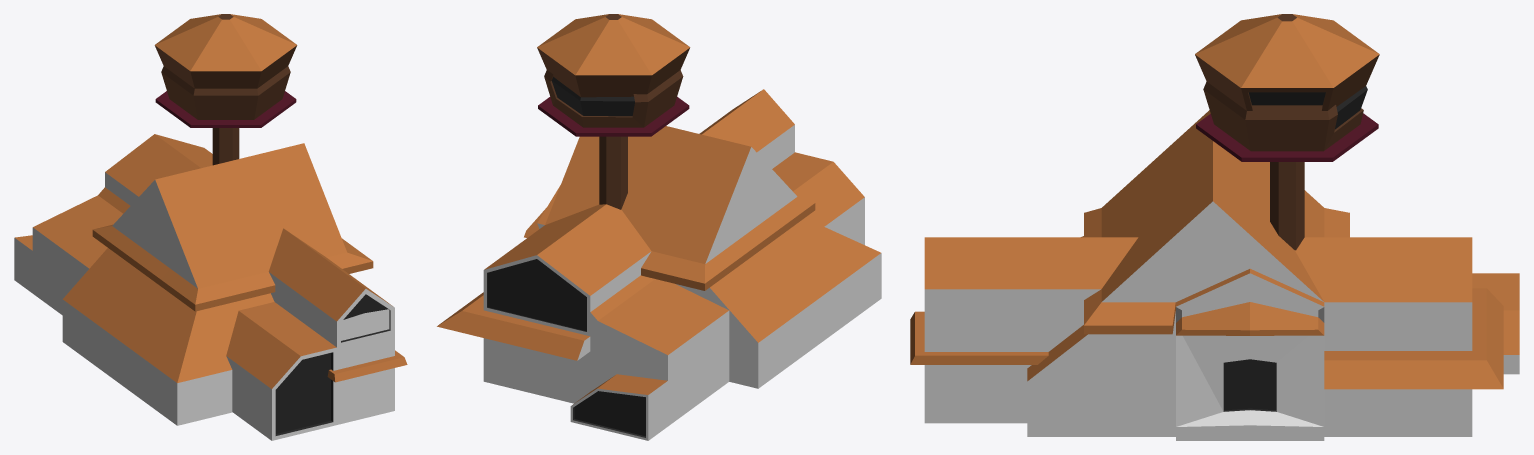
The model's file is House Module.fbx.
3 renders of one model, left to right at view 1: azimuth 30°, elevation 25°; view 2: azimuth 150°, elevation 25°; view 3: azimuth 270°, elevation 25°, orthographic. The views are drawn at different scales.
Parts seen in each view (by area): view 1: Base Extension Slot Type B No.1, Base Extension Slot Type E No.2, Base Extension Slot Type A No.2, Base Extension Slot Type A No.1, Base Extension Slot Type E No.1, Post House No.1, Base Default House Slot Type D No.2, Post House No.2, Base Default Slot Type C No.1, Base Default House Slot Type D No.1, Base Extension Slot Type B No.2, Post; view 2: Base Default Slot Type C No.1, Base Extension Slot Type B No.1, Base Extension Slot Type A No.1, Base Default House Slot Type D No.2, Post House No.1, Base Extension Slot Type A No.2, Base Default House Slot Type D No.1, Base Default Slot Type C No.2, Base Extension Slot Type E No.2, Post House No.2, Base Extension Slot Type E No.1, Post; view 3: Base Extension Slot Type E No.1, Base Extension Slot Type A No.2, Base Default Slot Type C No.1, Post House No.1, Base Default House No.1, Base Default Slot Type C No.2, Base Extension Slot Type B No.1, Base Default House, Post House No.2, Base Extension Slot Type A No.1, Post, Base Default House Slot Type D No.2 (+1 smaller).
Boxes of the visible parts, box(x1,y1,x2,y2) form: Base Extension Slot Type B No.1: box(62, 248, 274, 425); Base Extension Slot Type E No.2: box(226, 273, 394, 440); Base Extension Slot Type A No.2: box(92, 143, 373, 311); Base Extension Slot Type A No.1: box(112, 164, 278, 288); Base Extension Slot Type E No.1: box(268, 228, 407, 424); Post House No.1: box(154, 14, 297, 127); Base Default House Slot Type D No.2: box(14, 187, 130, 293); Post House No.2: box(157, 66, 295, 124); Base Default Slot Type C No.1: box(105, 134, 212, 205); Base Default House Slot Type D No.1: box(32, 227, 88, 315); Base Extension Slot Type B No.2: box(177, 308, 232, 425); Post: box(212, 128, 239, 165); Base Default Slot Type C No.1: box(483, 204, 651, 403); Base Extension Slot Type B No.1: box(676, 218, 881, 388); Base Extension Slot Type A No.1: box(621, 126, 797, 298); Base Default House Slot Type D No.2: box(570, 275, 728, 440); Post House No.1: box(537, 14, 690, 136); Base Extension Slot Type A No.2: box(545, 130, 815, 298); Base Default House Slot Type D No.1: box(590, 311, 729, 426); Base Default Slot Type C No.2: box(437, 256, 590, 402); Base Extension Slot Type E No.2: box(757, 126, 864, 244); Post House No.2: box(539, 70, 688, 132); Base Extension Slot Type E No.1: box(699, 89, 794, 168); Post: box(599, 136, 627, 209); Base Extension Slot Type E No.1: box(910, 237, 1138, 423); Base Extension Slot Type A No.2: box(1084, 140, 1349, 436); Base Default Slot Type C No.1: box(1295, 237, 1472, 436); Post House No.1: box(1195, 14, 1379, 161); Base Default House No.1: box(1176, 268, 1324, 440); Base Default Slot Type C No.2: box(1324, 288, 1503, 436); Base Extension Slot Type B No.1: box(1027, 236, 1175, 436); Base Default House: box(1182, 279, 1318, 411); Post House No.2: box(1197, 81, 1376, 157); Base Extension Slot Type A No.1: box(1101, 110, 1324, 237); Post: box(1270, 162, 1304, 250); Base Default House Slot Type D No.2: box(1472, 273, 1519, 374).
Bounding box in the file's own units: 464 × 576 × 820.
